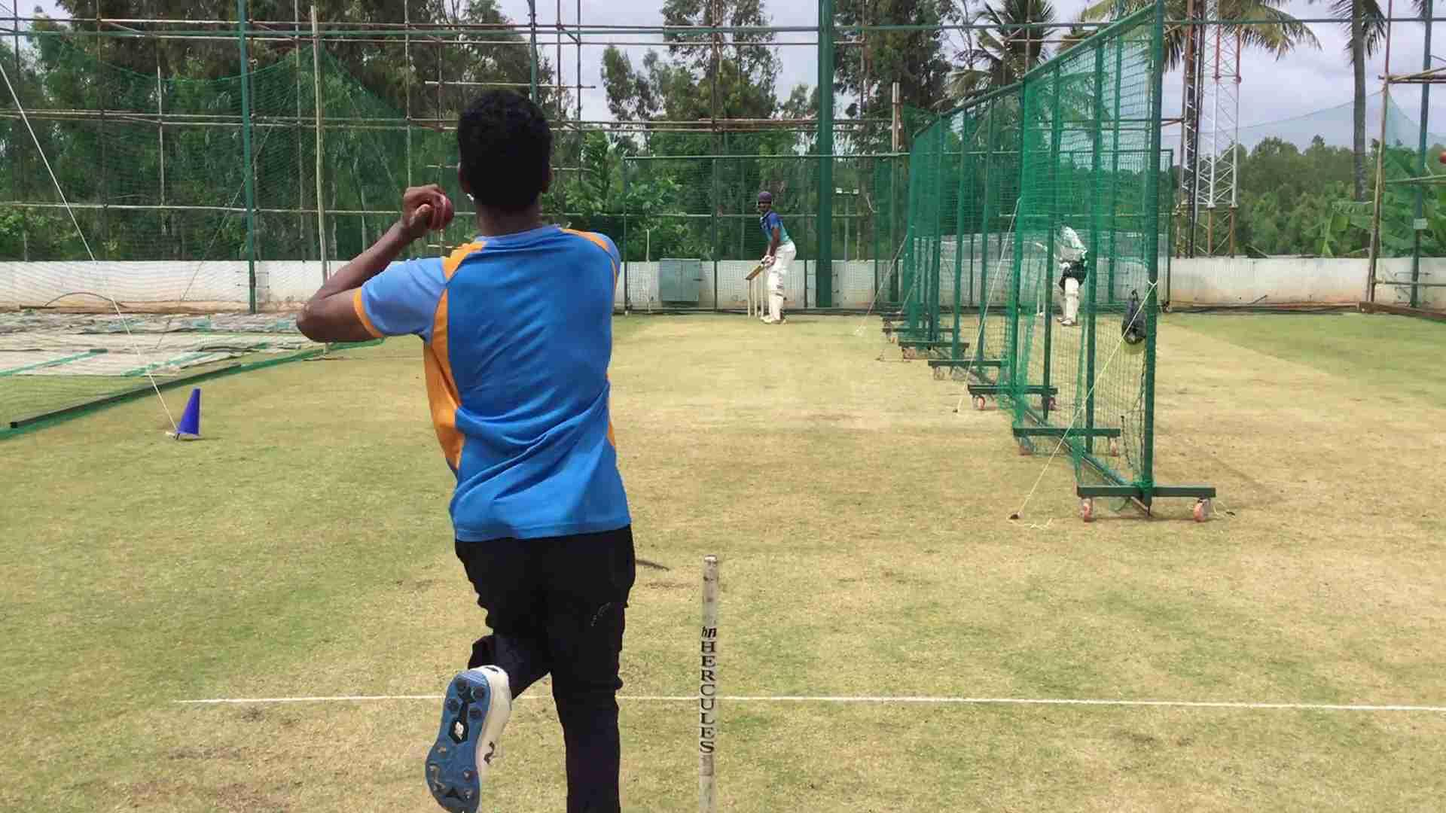batsman: (747, 184, 798, 329)
